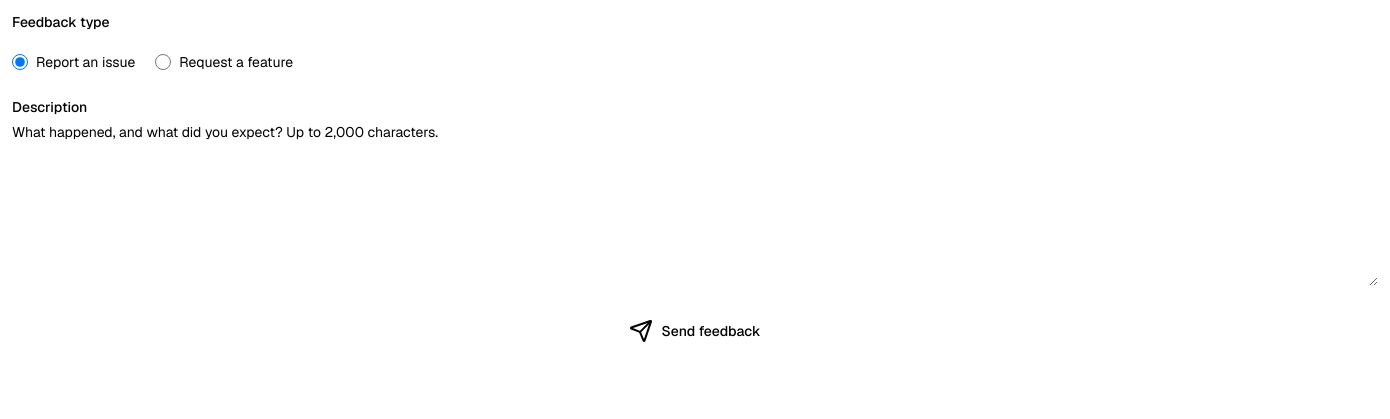
Scenario: FeedbackForm › blocks duplicate form submissions while a request is pending
The image size is (1390, 419).
Type "A problem" into the text box labelled "Description" at (695, 218), box top-left (12, 150), bottom-right (1378, 286)
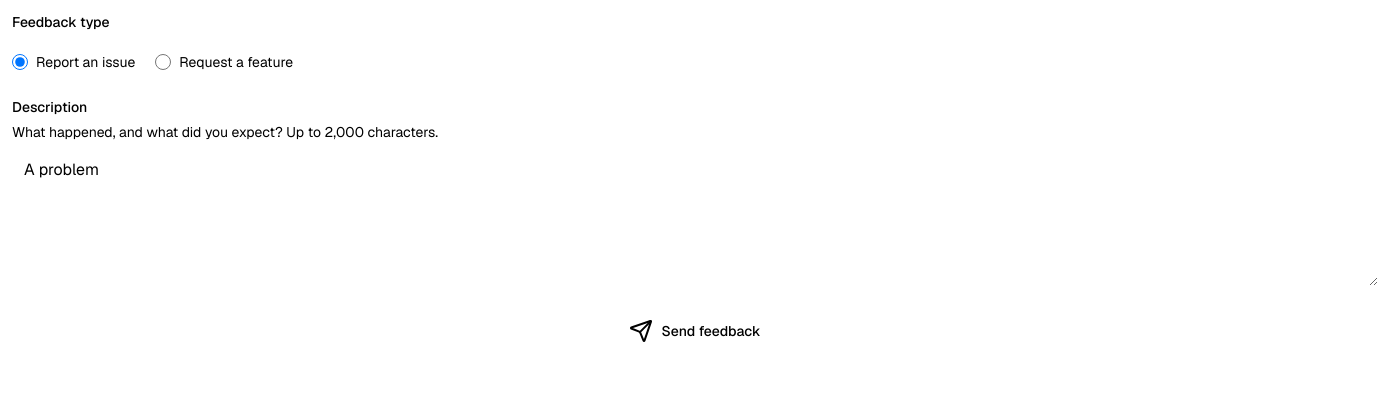
Submit the form named "Send feedback"
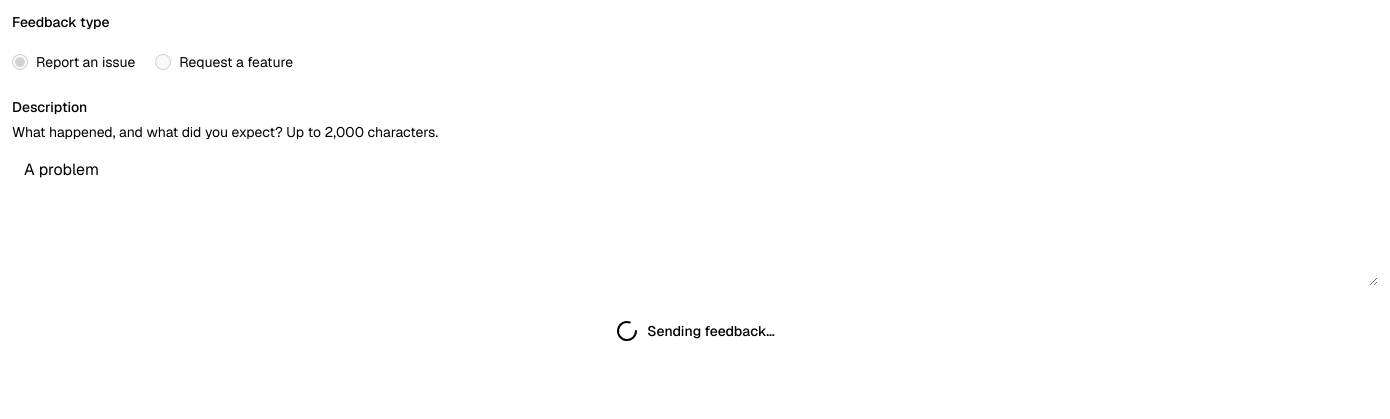
Submit the form named "Send feedback"
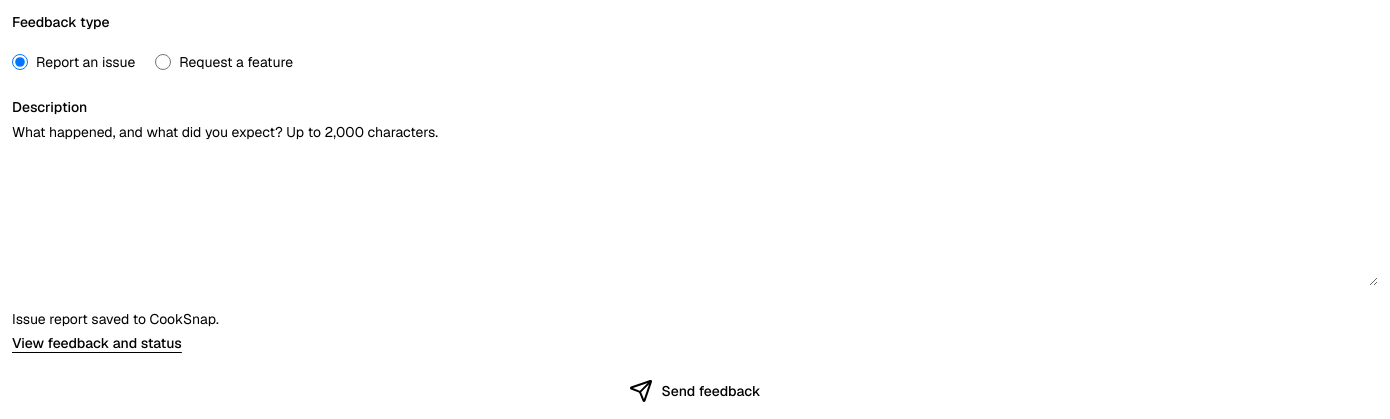
Now the button "Sending feedback…" is gone
